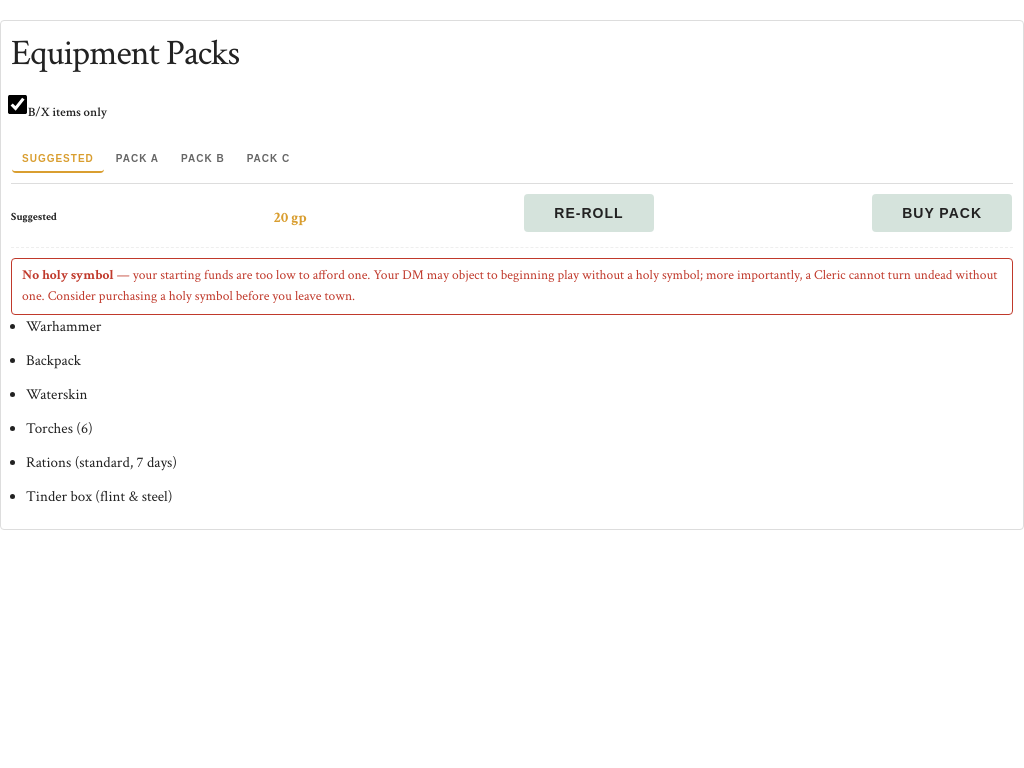
Test: PackOptionsContainer › cleric holy symbol warning › does NOT show a cleric warning on static pack tabs
This screenshot has width=1024, height=768.
Note: Switch to Pack A
Click the button "Pack A": (137, 154) top-left (106, 135), bottom-right (169, 173)
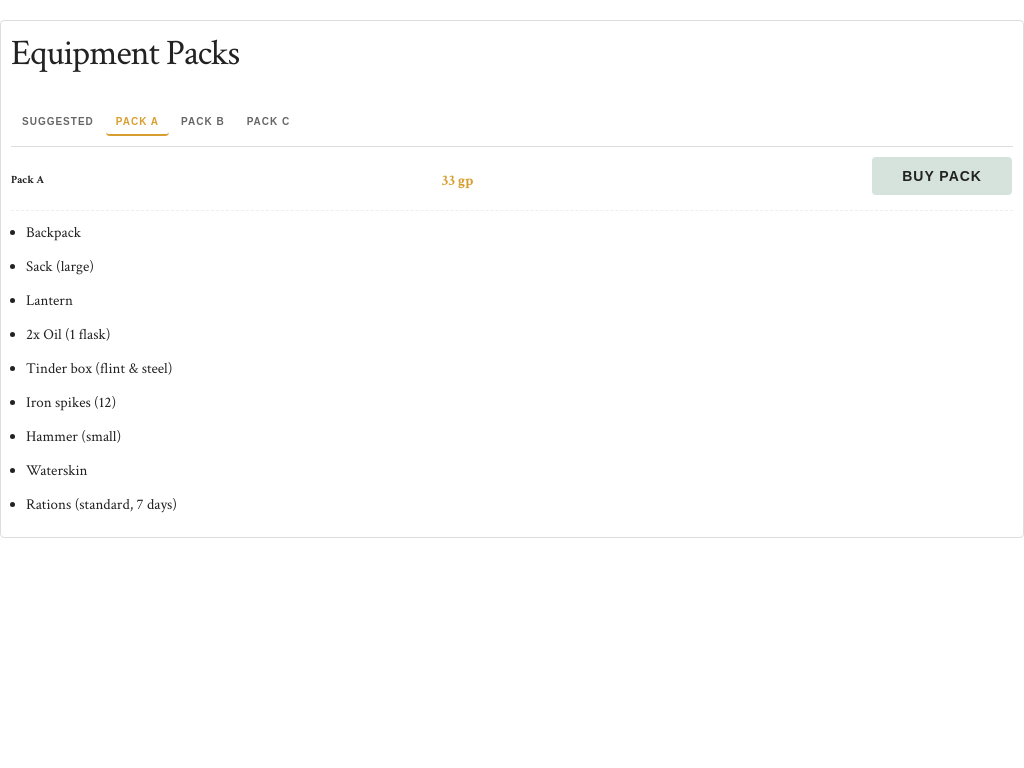
Check: the message is gone
